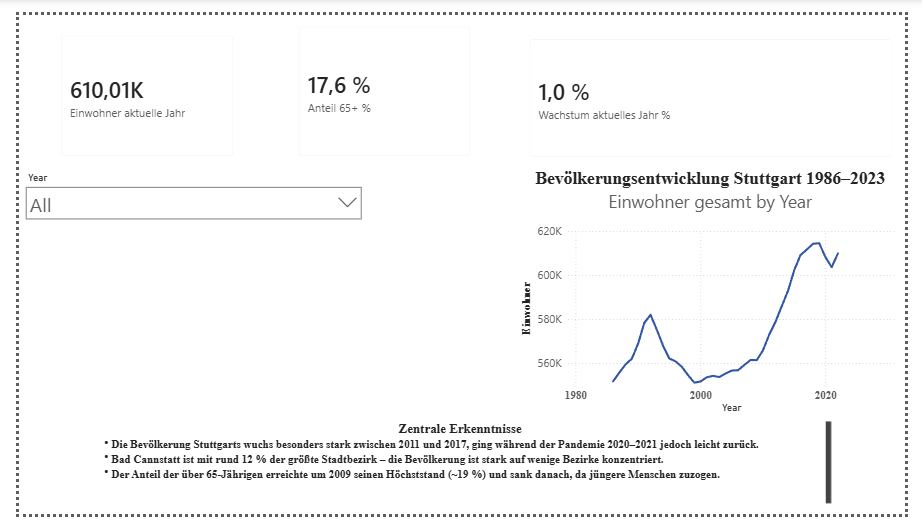

What the dashboard file says about the page in this screenshot:
{"tool":"powerbi","page":{"name":"ÜberBlick","canvas":[1280,720],"ordinal":0},"visuals":[{"type":"cardVisual","fields":{"Data":["FactEinwohner.Einwohner aktuelle Jahr"]},"box":[44.7,12.8,283.1,208.6],"z":0},{"type":"cardVisual","fields":{"Data":["FactEinwohner.Wachstum aktuelles Jahr %"]},"box":[719.5,17,557.7,204.4],"z":1000},{"type":"cardVisual","fields":{"Data":["FactEinwohner.Anteil 65+ %"]},"box":[387.4,0,281,221.4],"z":2000},{"type":"slicer","fields":{"Values":["DimJahr.Year"]},"box":[0,221.4,504.5,359.8],"z":3000},{"type":"lineChart","title":"Bevölkerungsentwicklung Stuttgart 1986–2023","fields":{"Category":["DimJahr.Year"],"Y":["FactEinwohner.Einwohner gesamt"]},"box":[719.5,221.4,555.6,359.8],"z":4000},{"type":"textbox","box":[104.3,581.2,1072.9,138.4],"z":5000}]}

Visuals, with their boxes in screenshot pixels (x1, y1, x2, y2), scaled from the page's 1280x720 canvas onto the 922x522 screenshot:
cardVisual - FactEinwohner.Einwohner aktuelle Jahr: [32, 9, 236, 161]
cardVisual - FactEinwohner.Wachstum aktuelles Jahr %: [518, 12, 920, 161]
cardVisual - FactEinwohner.Anteil 65+ %: [279, 0, 481, 161]
slicer - DimJahr.Year: [0, 161, 363, 421]
"Bevölkerungsentwicklung Stuttgart 1986–2023" lineChart: [518, 161, 918, 421]
textbox: [75, 421, 848, 521]
